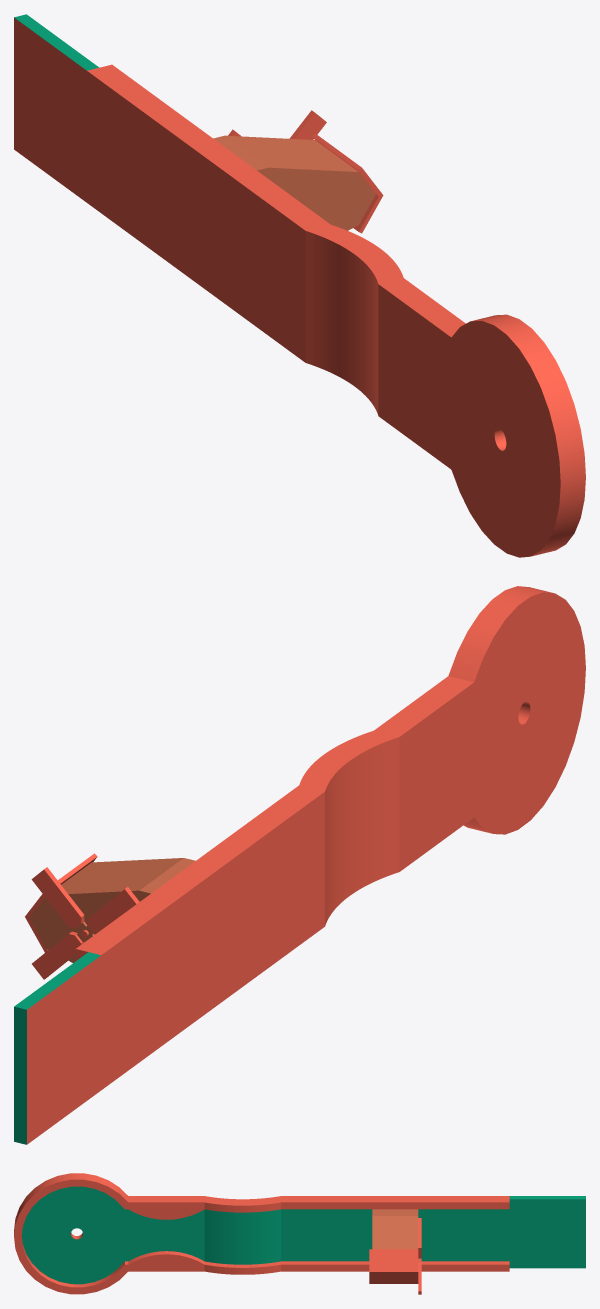
File: Golf.glb
3 renders of one model, top to bottom at view 1: azimuth 30°, elevation 25°; view 2: azimuth 150°, elevation 25°; view 3: azimuth 270°, elevation 25°, orthographic. The views are drawn at different scales.
Parts seen in each view (by area): view 1: mergedBlocks(Clone); view 2: mergedBlocks(Clone); view 3: mergedBlocks(Clone).
Boxes of the visible parts, x1=… form: mergedBlocks(Clone): x1=14, y1=14, x2=585, y2=557; mergedBlocks(Clone): x1=14, y1=586, x2=585, y2=1144; mergedBlocks(Clone): x1=14, y1=1173, x2=585, y2=1294.
Size of the model in its own units: 1.29 by 1.66 by 7.5.
